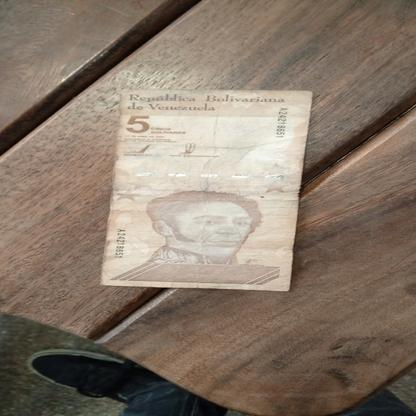five-front-vef: (99, 89, 314, 291)
